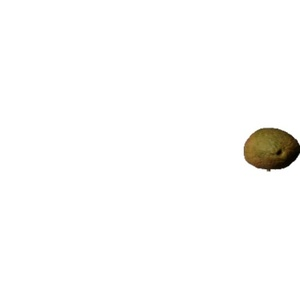mamão: (242, 125, 299, 173)
